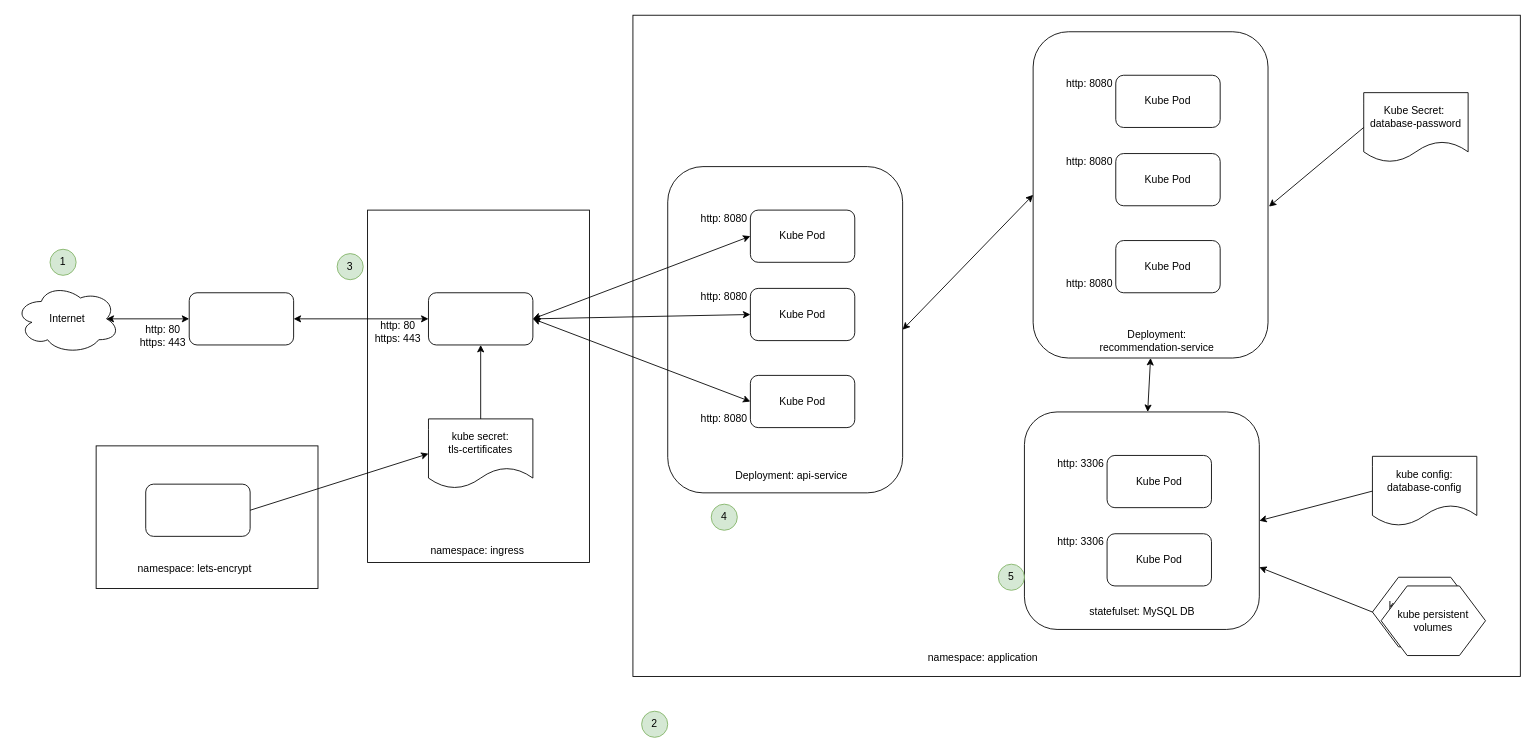
This 1536x753 diagram has some shape labels left out. Here are the shapes that lost their labels. From the top down, the centre of each, then its label:
At pixel 241 318: "Cloud LoadBalancer".
At pixel 480 318: "nginx-ingress controller".
At pixel 197 509: "lets-encrypt controller".
